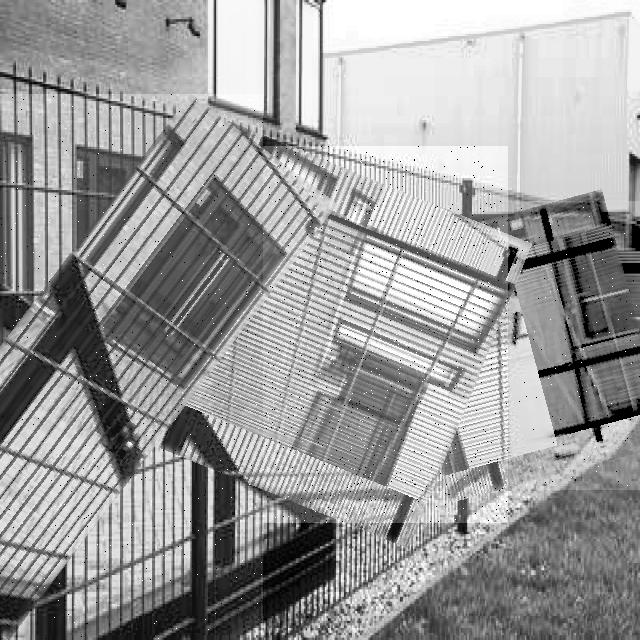fences: (0, 94, 263, 640), (130, 146, 508, 523), (397, 201, 640, 490)
